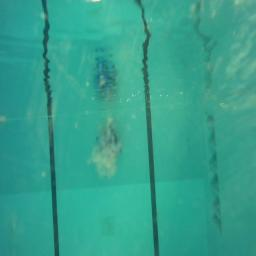Full: (96, 128, 122, 152)
